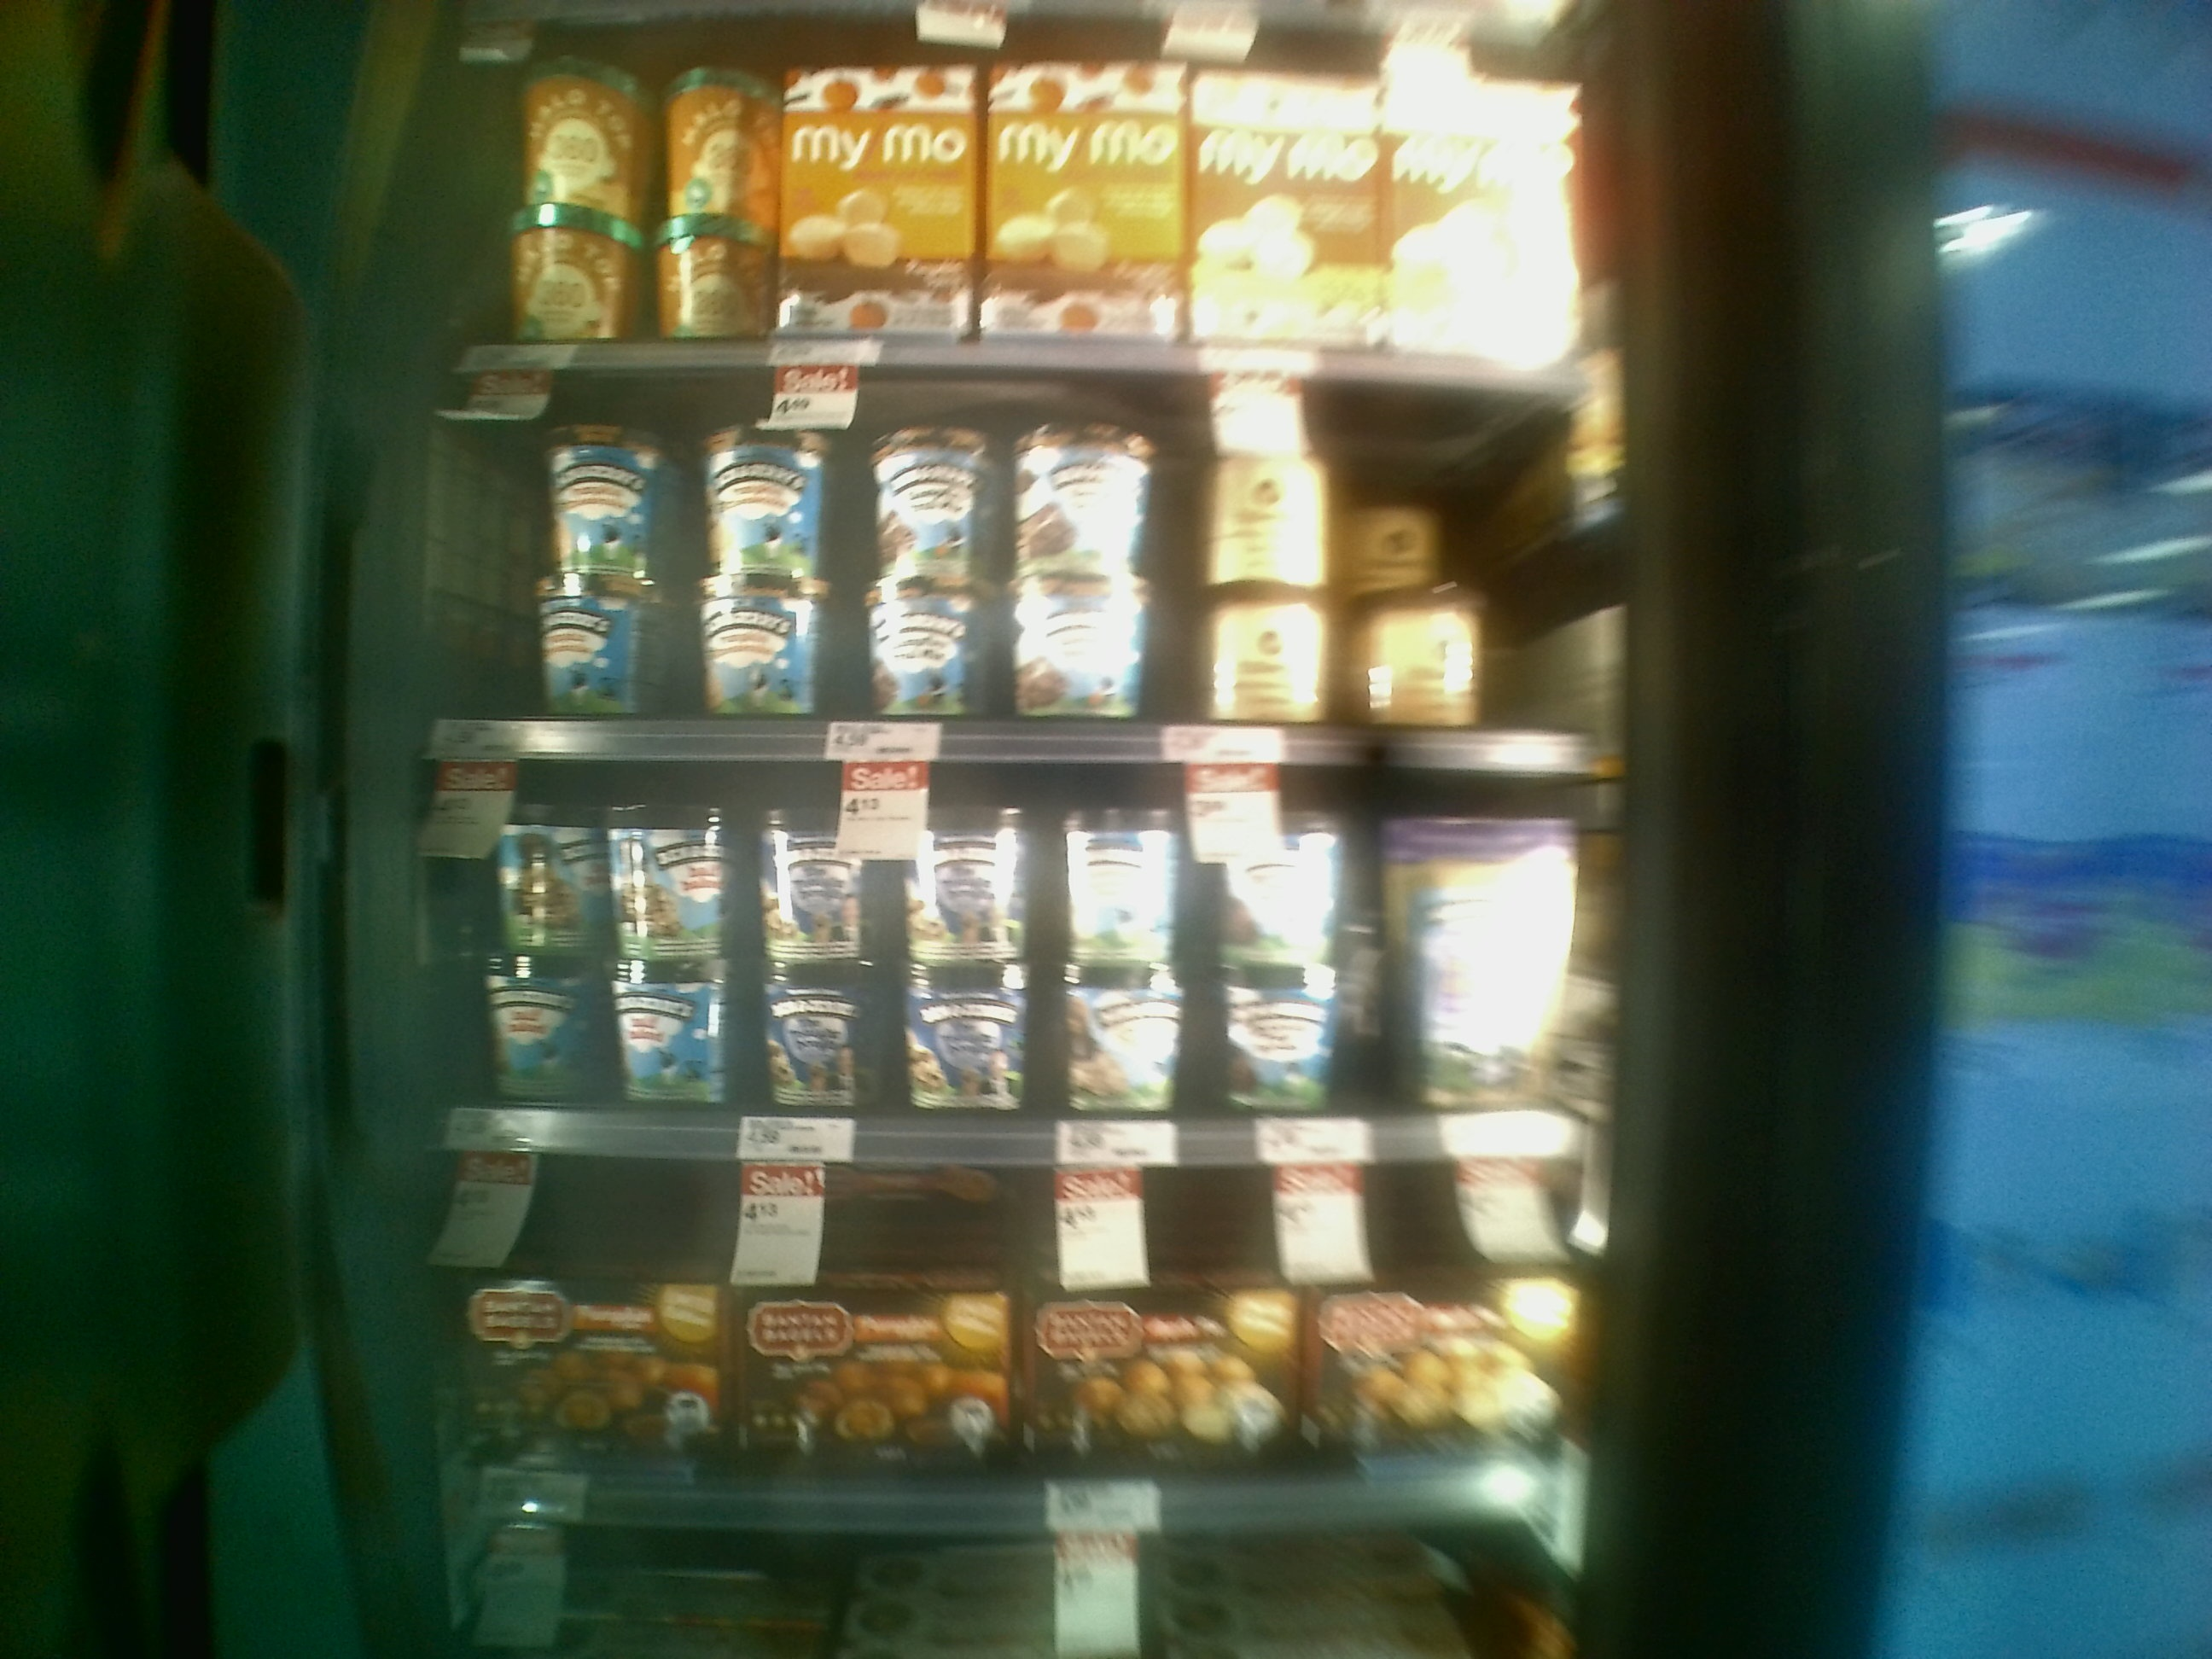shelf: (404, 364, 1630, 784), (374, 763, 1630, 1166), (376, 1157, 1635, 1521)
